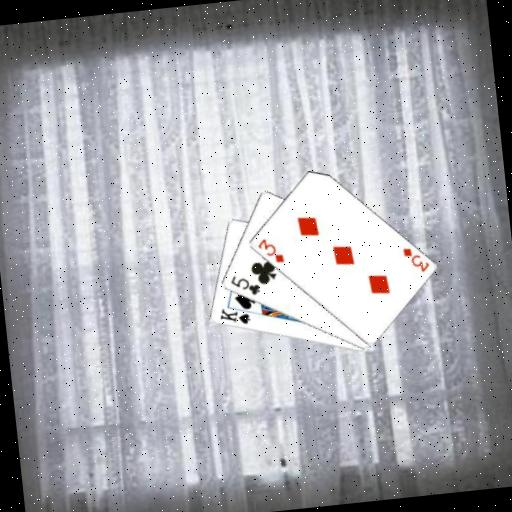3D: (253, 234, 286, 267), (399, 243, 432, 276)
5C: (227, 270, 262, 300)
KS: (216, 303, 252, 328)
